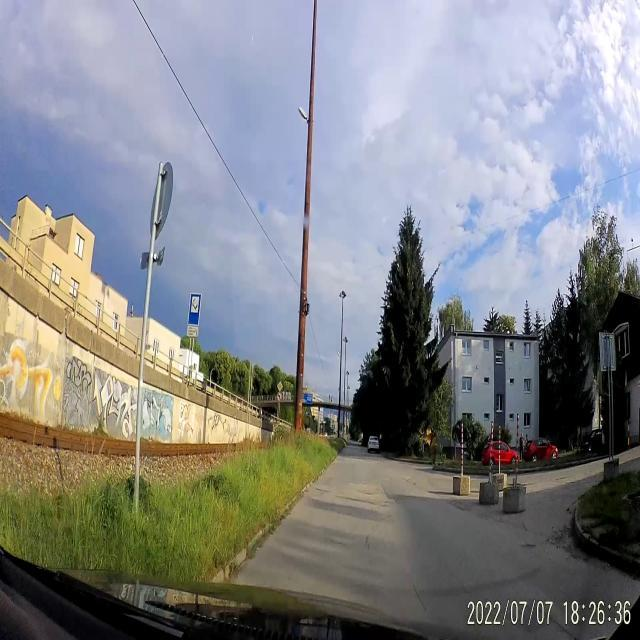Pothole: (546, 515, 582, 578), (408, 572, 428, 621), (377, 485, 399, 517), (444, 495, 476, 515), (401, 472, 421, 490), (314, 483, 336, 495), (363, 528, 373, 554)
